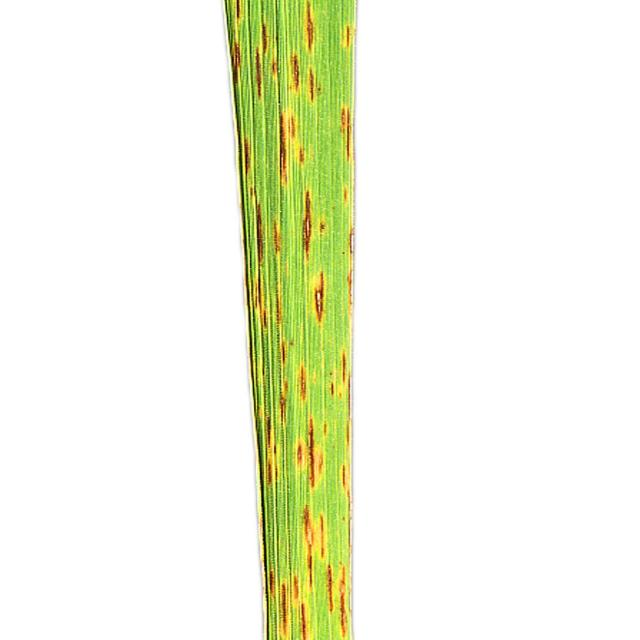Narrow brown: (193, 0, 414, 640)
